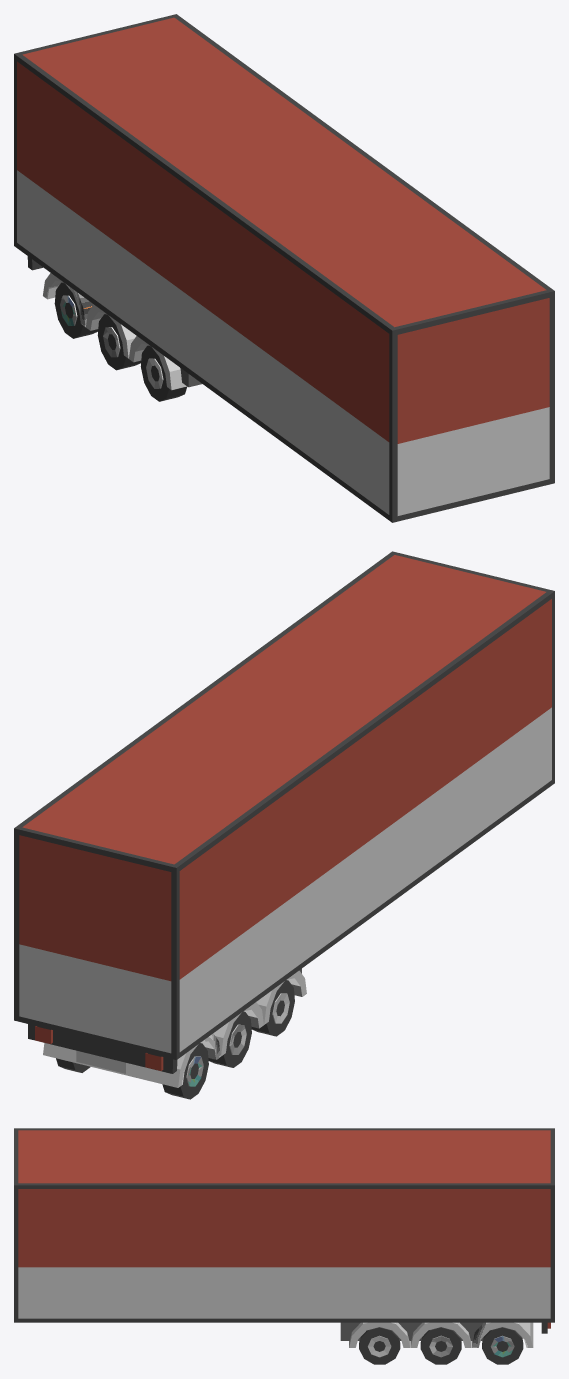
Rendered from transport_truck_011.fbx.
3 renders of one model, top to bottom at view 1: azimuth 30°, elevation 25°; view 2: azimuth 150°, elevation 25°; view 3: azimuth 270°, elevation 25°, orthographic. The views are drawn at different scales.
Visible parts, largest first — view 1: transport_truck_011; view 2: transport_truck_011; view 3: transport_truck_011.
Boxes of the visible parts, bbox=[...] form: transport_truck_011: bbox=[14, 14, 554, 522]; transport_truck_011: bbox=[14, 551, 554, 1099]; transport_truck_011: bbox=[14, 1128, 554, 1364].
Bounding box in the file's own units: 213 × 325 × 859.
